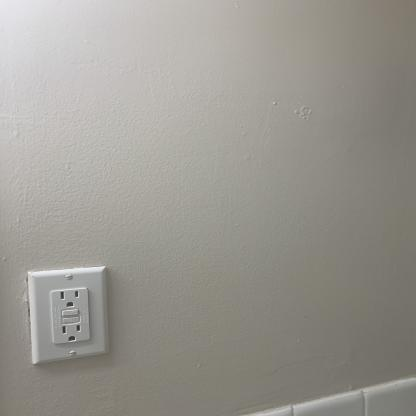OUTLET: (28, 268, 112, 361)
